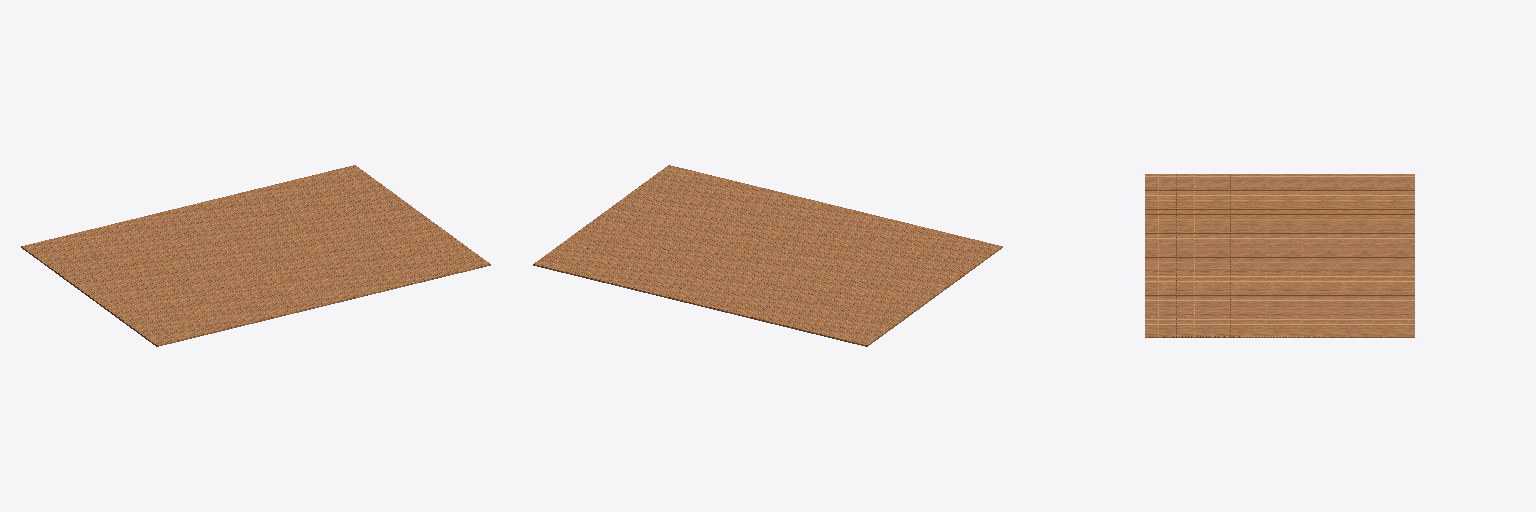
3 views of the same model, side by side, from view 1: azimuth 30°, elevation 25°; view 2: azimuth 150°, elevation 25°; view 3: azimuth 270°, elevation 25° (orthographic).
Parts seen in each view (by area): view 1: Ceiling#2_0; view 2: Ceiling#2_0; view 3: Ceiling#2_0.
Part boxes in pixels (x1,y1,x2,y2): Ceiling#2_0: (21, 165, 490, 346); Ceiling#2_0: (533, 165, 1002, 346); Ceiling#2_0: (1145, 174, 1414, 337).
Bounding box in the file's own units: 10.73 × 0.05 × 7.54.
1 materials, 1 textured.